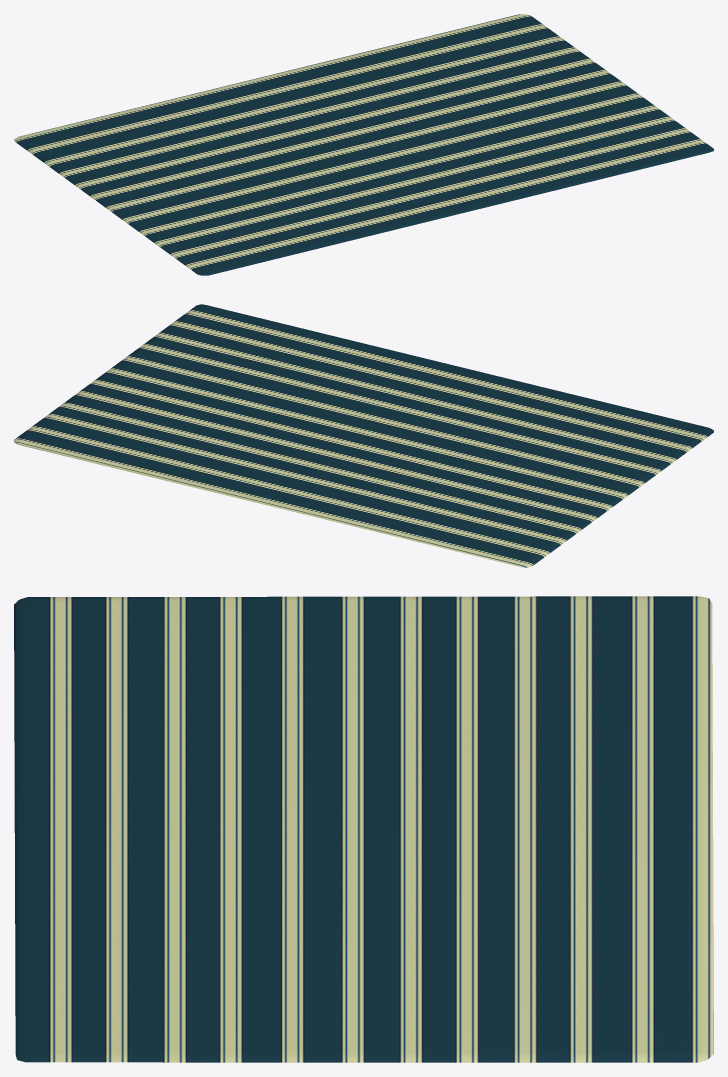
3 renders of one model, top to bottom at view 1: azimuth 30°, elevation 25°; view 2: azimuth 150°, elevation 25°; view 3: azimuth 270°, elevation 25°, orthographic. The views are drawn at different scales.
Visible parts, largest first — view 1: 地毯; view 2: 地毯; view 3: 地毯.
Part boxes in pixels (x1,y1,x2,y2): 地毯: (14, 14, 713, 275); 地毯: (14, 304, 713, 567); 地毯: (14, 596, 713, 1062).
Size of the model in its own units: 3092 by 10.29 by 1963.
